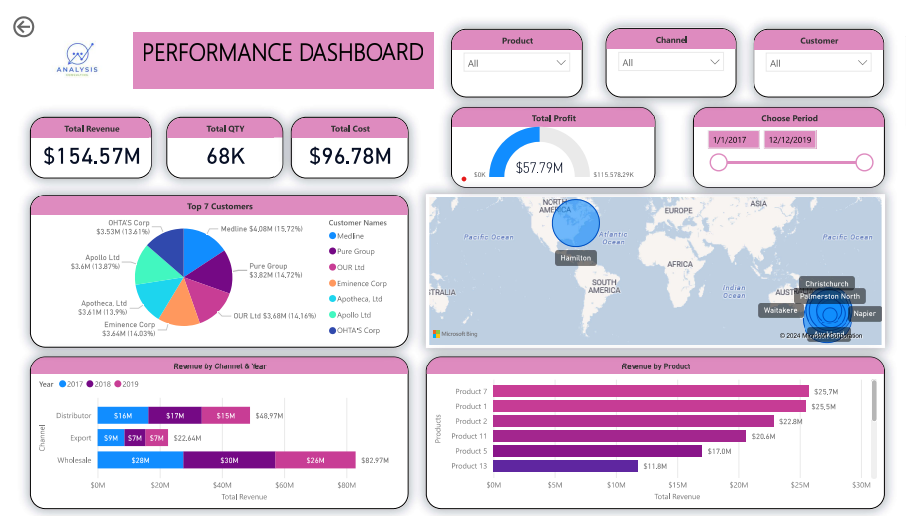

The dashboard page shown, as its layout file describes it:
{"tool":"powerbi","page":{"name":"Page 1","canvas":[1280,720],"ordinal":0},"visuals":[{"type":"barChart","title":"Revenue by Channel & Year","fields":{"Category":["Sales_Data.Channel"],"Y":["Sum(Sales_Data.Total Revenue)"],"Series":["Sales_Data.OrderDate.Variation.Date Hierarchy.Year"]},"box":[29.3,491.4,540.3,218.8],"z":0},{"type":"barChart","title":"Revenue by Product","fields":{"Category":["Products_Data.Product Name"],"Y":["Sum(Sales_Data.Total Revenue)"]},"box":[595.3,491.4,655.2,218.8],"z":1000},{"type":"pieChart","title":"Top 7 Customers","fields":{"Category":["Customer_Data.Customer Names"],"Y":["Sum(Sales_Data.Total Revenue)"]},"box":[29.3,260.4,540.3,218.8],"z":2000},{"type":"card","title":"Total Revenue ","fields":{"Values":["Sum(Sales_Data.Total Revenue)"]},"box":[29.3,149.1,174.8,88],"z":3000},{"type":"card","title":"Total QTY ","fields":{"Values":["Sum(Sales_Data.Order Quantity)"]},"box":[223.7,149.1,167.5,88],"z":4000},{"type":"gauge","title":"Total Profit","fields":{"Y":["Sum(Sales_Data.Profit)"]},"box":[630.8,134.5,292.2,116.1],"z":5000},{"type":"slicer","title":"Choose Period","fields":{"Values":["Sales_Data.OrderDate"]},"box":[976.7,134.5,273.8,116.1],"z":6000},{"type":"slicer","title":"Customer","fields":{"Values":["Customer_Data.Customer Names"]},"box":[1063.5,23.3,186.6,97.4],"z":7000},{"type":"card","title":"Total Cost","fields":{"Values":["Sum(Sales_Data.Cost)"]},"box":[402.2,149.1,167.5,88],"z":8000},{"type":"slicer","title":"Product","fields":{"Values":["Products_Data.Product Name"]},"box":[631.2,23.3,188,97.4],"z":9000},{"type":"slicer","title":"Channel","fields":{"Values":["Sales_Data.Channel"]},"box":[852.1,22,186.6,98.8],"z":10000},{"type":"textbox","box":[176,26.9,430.3,80.7],"z":11000},{"type":"image","box":[0,0,191.9,134.5],"z":12000},{"type":"actionButton","box":[0,0,100,40],"z":13000},{"type":"map","title":"Top 7 Customers","fields":{"Size":["Sum(Sales_Data.Total Revenue)"],"Category":["Regions_Table.City"]},"box":[595.3,260.4,655.2,218.8],"z":14000}]}

Visuals, with their boxes in screenshot pixels (x1, y1, x2, y2):
"Revenue by Channel & Year" barChart: BBox(25, 354, 404, 507)
"Revenue by Product" barChart: BBox(422, 354, 881, 507)
"Top 7 Customers" pieChart: BBox(25, 192, 404, 345)
"Total Revenue " card: BBox(25, 114, 148, 176)
"Total QTY " card: BBox(162, 114, 279, 176)
"Total Profit" gauge: BBox(447, 104, 652, 185)
"Choose Period" slicer: BBox(690, 104, 881, 185)
"Customer" slicer: BBox(750, 26, 881, 94)
"Total Cost" card: BBox(287, 114, 404, 176)
"Product" slicer: BBox(447, 26, 579, 94)
"Channel" slicer: BBox(602, 25, 733, 94)
textbox: BBox(128, 28, 430, 85)
image: BBox(5, 9, 139, 104)
actionButton: BBox(5, 9, 75, 38)
"Top 7 Customers" map: BBox(422, 192, 881, 345)
